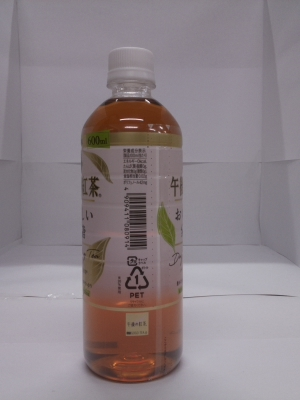gogo_tea: (69, 42, 200, 390)
